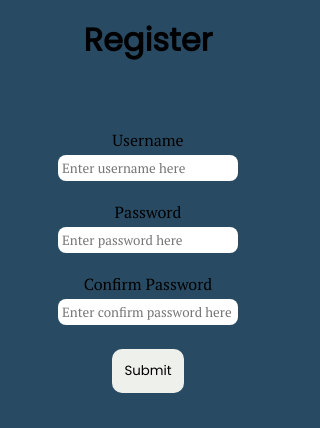
Test: <Register/> › Successful register redirects the user
Type "usernameHere" into the field with placeholder "Enter username here" at (148, 168), box [58, 155, 238, 181]
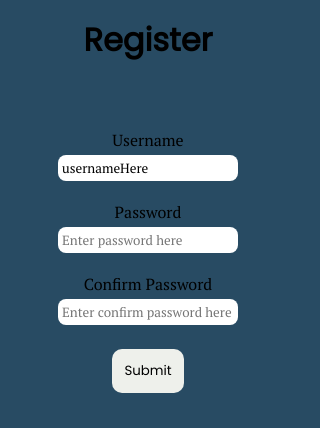
Type "passwordHere" into the password field with placeholder "Enter password here" at (148, 240), box [58, 227, 238, 253]
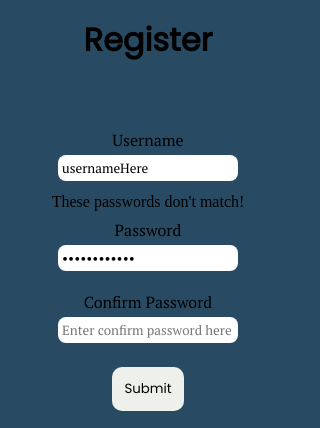
Type "passwordHere" into the password field with placeholder "Enter confirm password here" at (148, 330), box [58, 317, 238, 343]
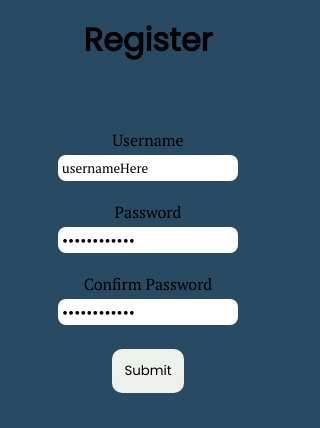
Click the button "Submit" at (148, 371), box [112, 349, 184, 393]
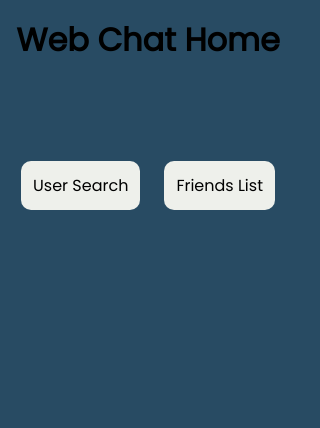
Result: the heading "Web Chat Home" is shown at [16, 16, 280, 64]
